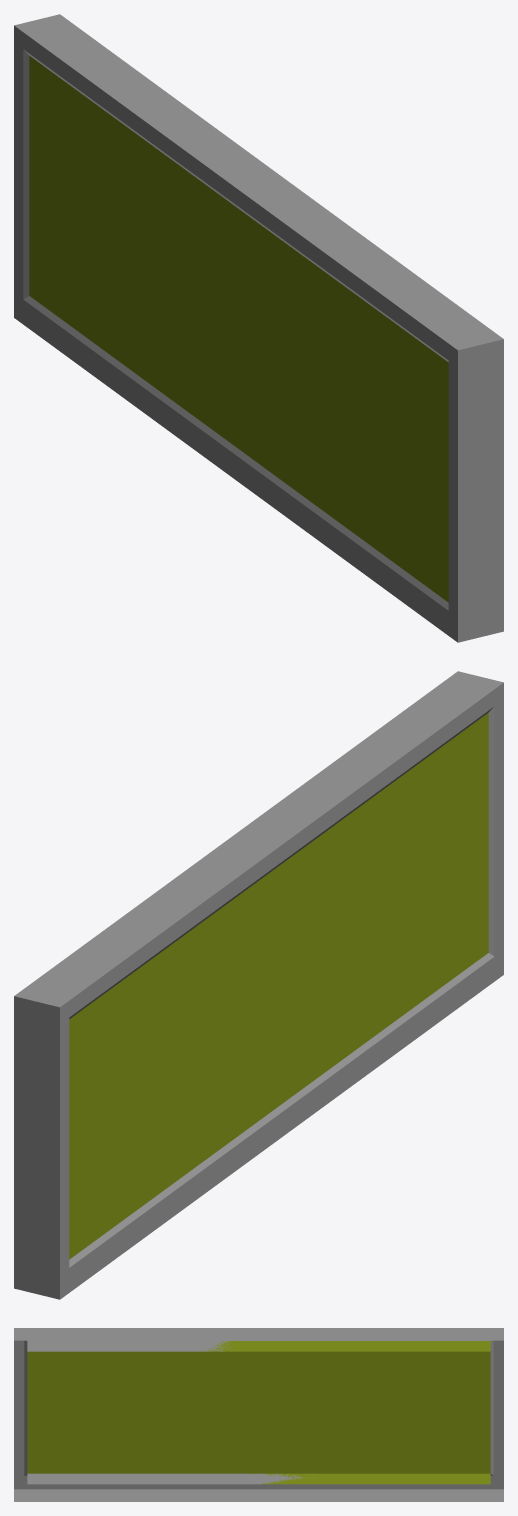
The model's file is DisplayBoarad_B.fbx.
3 views of the same model, one above another, from view 1: azimuth 30°, elevation 25°; view 2: azimuth 150°, elevation 25°; view 3: azimuth 270°, elevation 25° (orthographic). The views are drawn at different scales.
Parts seen in each view (by area): view 1: DisplayBoard_B; view 2: DisplayBoard_B; view 3: DisplayBoard_B.
Part boxes in pixels (x1=…): DisplayBoard_B: x1=14, y1=14, x2=503, y2=642; DisplayBoard_B: x1=14, y1=671, x2=503, y2=1299; DisplayBoard_B: x1=14, y1=1328, x2=503, y2=1501.
Bounding box in the file's own units: 14.22 × 86.28 × 237.
